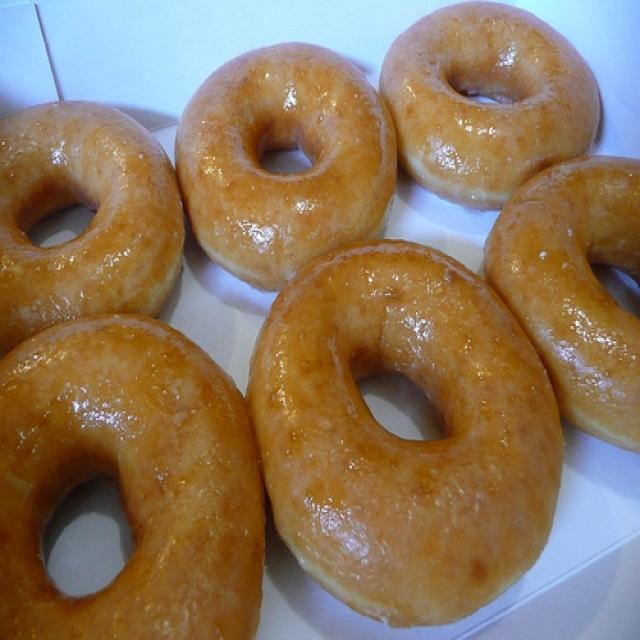炸货点心: (15, 26, 612, 623)
